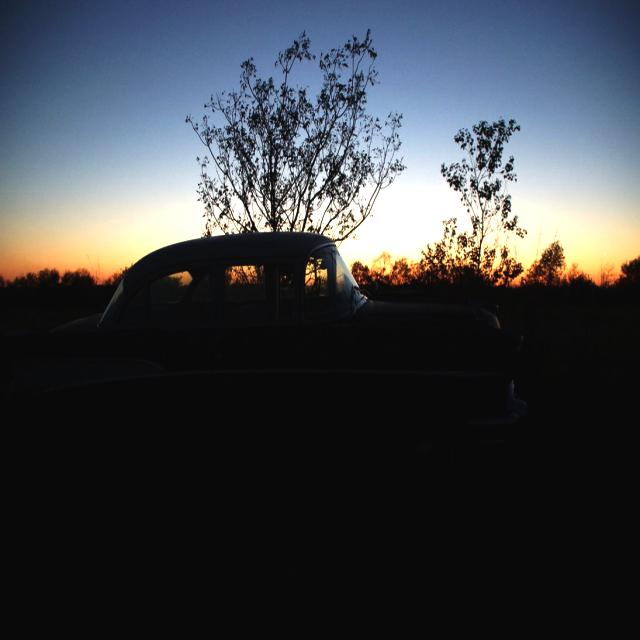Car: (39, 231, 525, 500)
